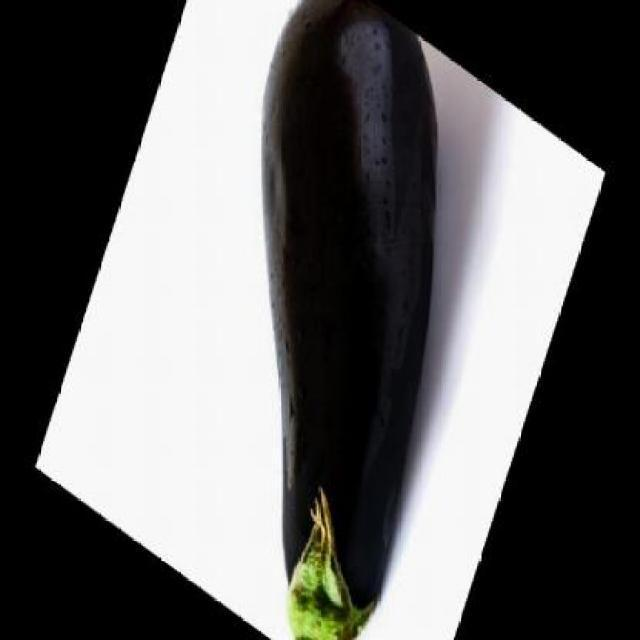eggplant: (119, 0, 536, 638)
